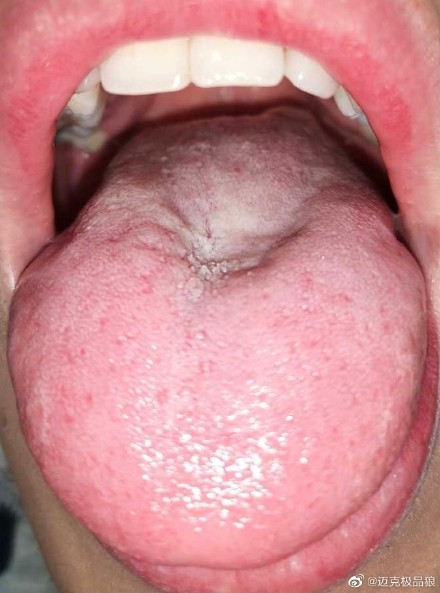baitaishe: (8, 106, 427, 570)
hongdianshe: (77, 344, 89, 358)
piweiao: (120, 190, 325, 284)
